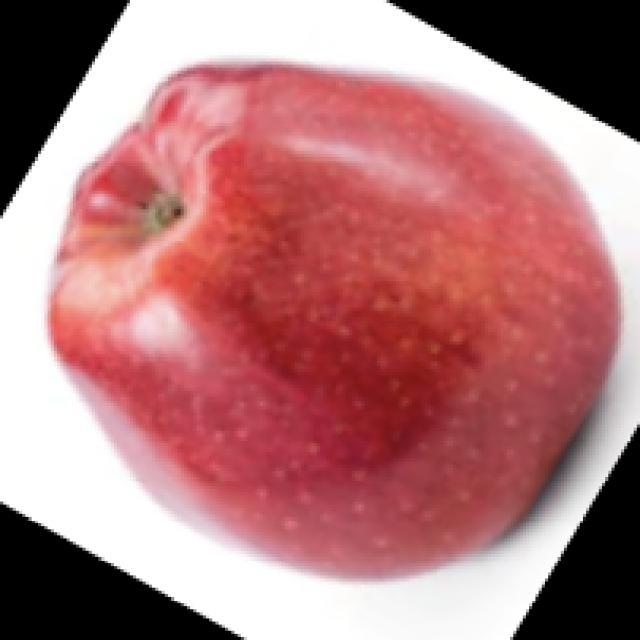Fresh Apple: (49, 51, 626, 587)
